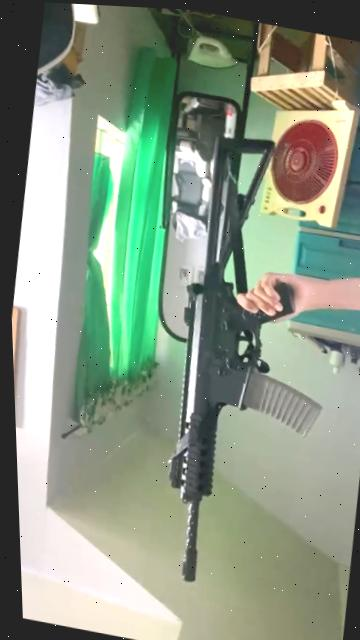rifle: (124, 117, 360, 623)
